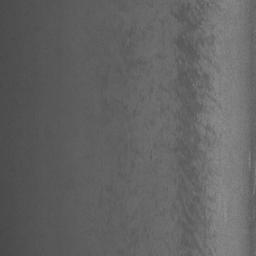Silk spot: (171, 0, 221, 256), (126, 59, 147, 72), (122, 40, 135, 54), (126, 24, 137, 38), (101, 185, 113, 192), (102, 76, 107, 88)
